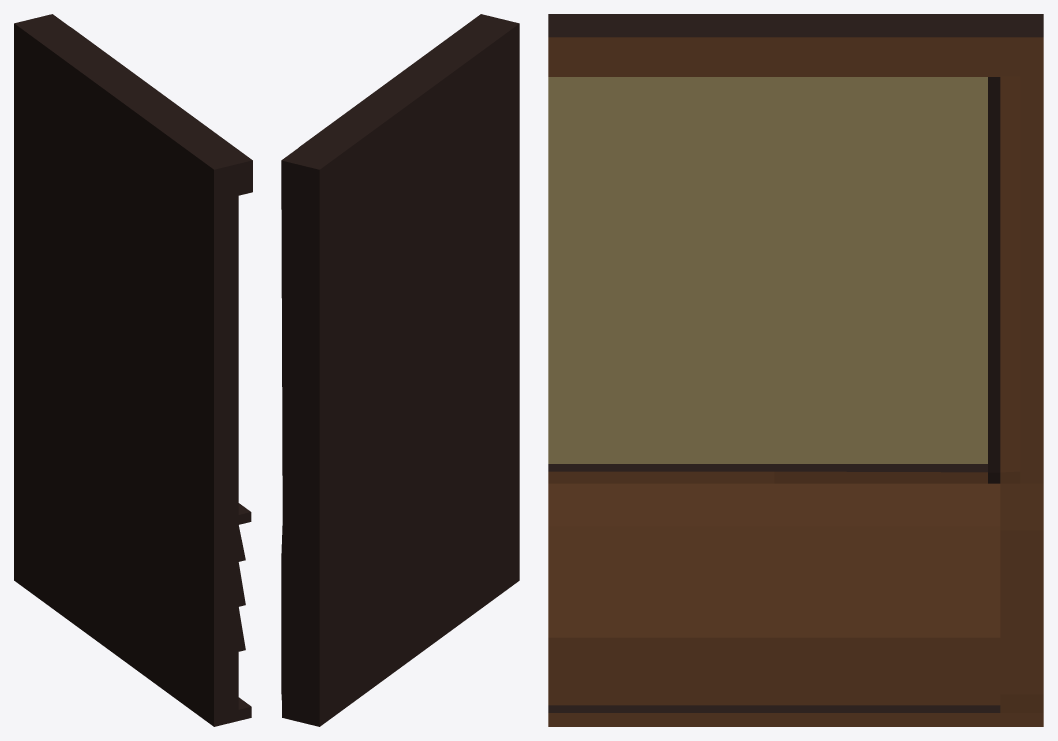
Rendered from env_market_shop_facade_02.fbx.
The picture shows the model from 3 angles, left to right: view 1: azimuth 30°, elevation 25°; view 2: azimuth 150°, elevation 25°; view 3: azimuth 270°, elevation 25°; orthographic projection. The views are drawn at different scales.
Visible parts, largest first — view 1: Cube.003; view 2: Cube.003; view 3: Cube.003.
Part boxes in pixels (<box>): Cube.003: <box>14,14,252,726</box>; Cube.003: <box>281,14,519,726</box>; Cube.003: <box>548,14,1043,726</box>.
Bounding box in the file's own units: 24.48 × 337 × 219.
